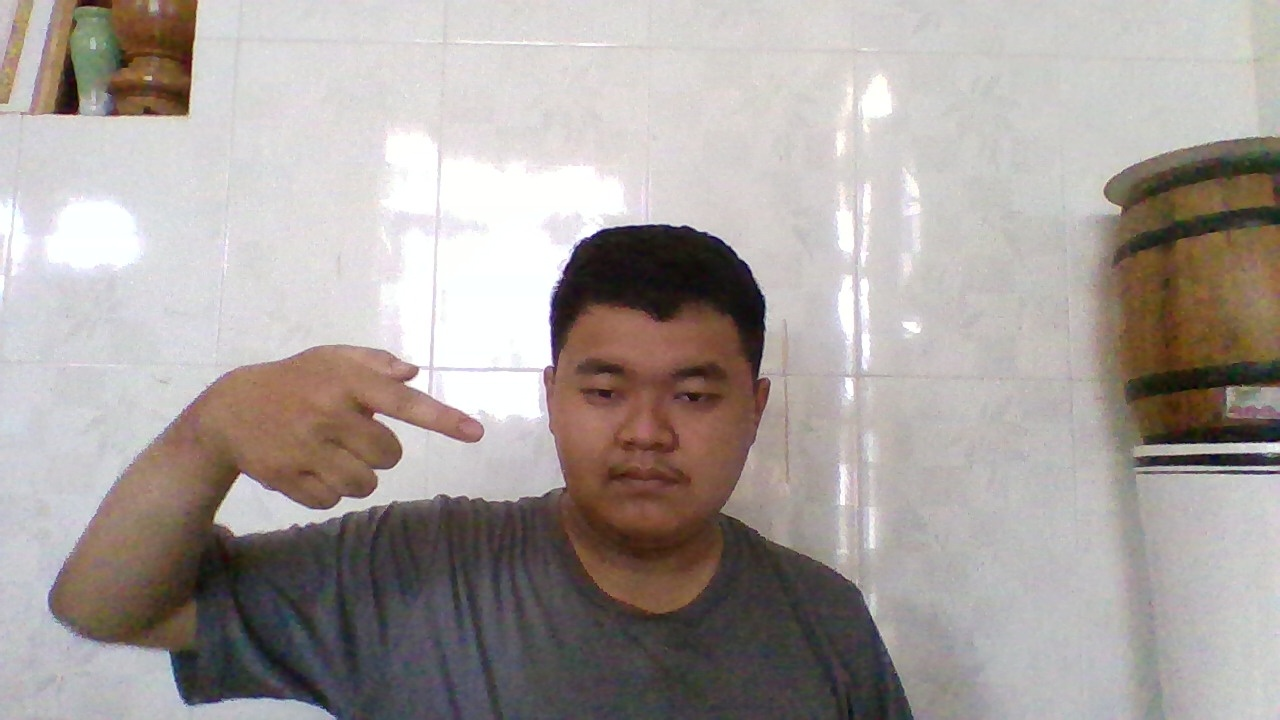G: (199, 342, 492, 520)
